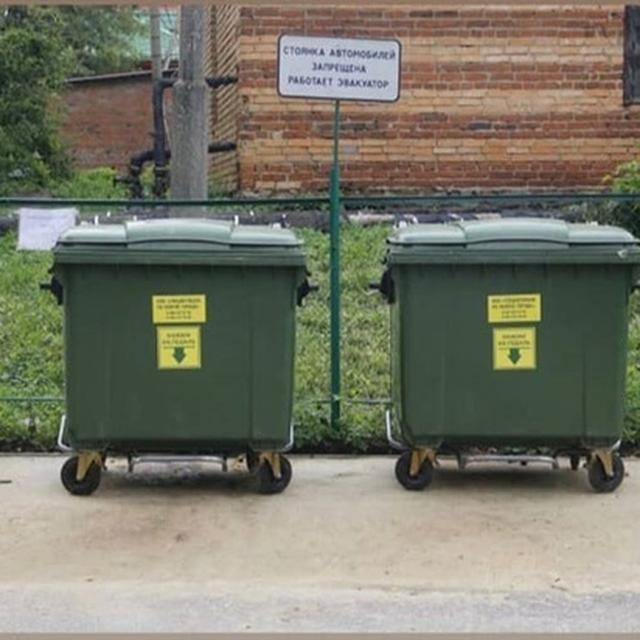Trash_Can_Closed: (52, 219, 312, 456), (389, 219, 640, 448)
